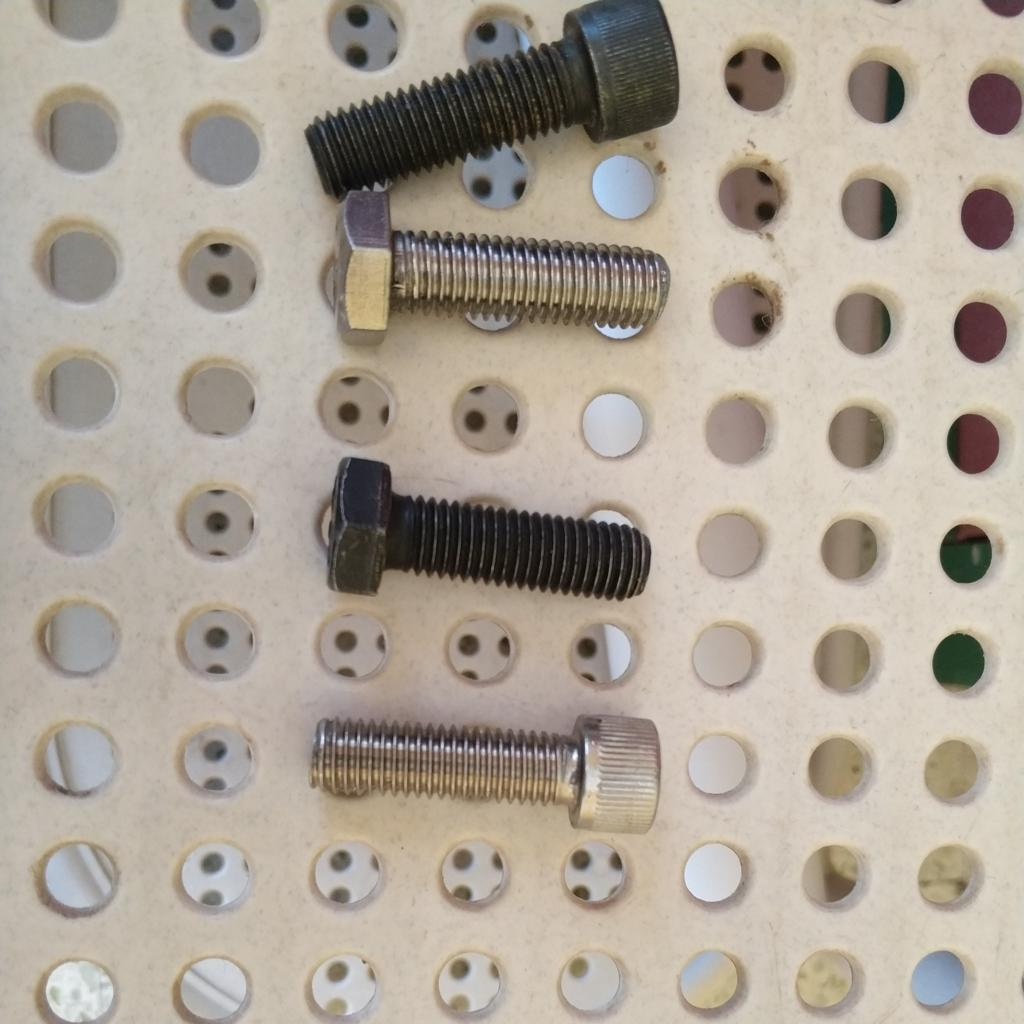screwtype1black: (296, 1, 694, 200)
screwtype1silver: (306, 704, 667, 841)
screwtype2black: (320, 455, 654, 621)
screwtype2silver: (305, 191, 675, 351)
